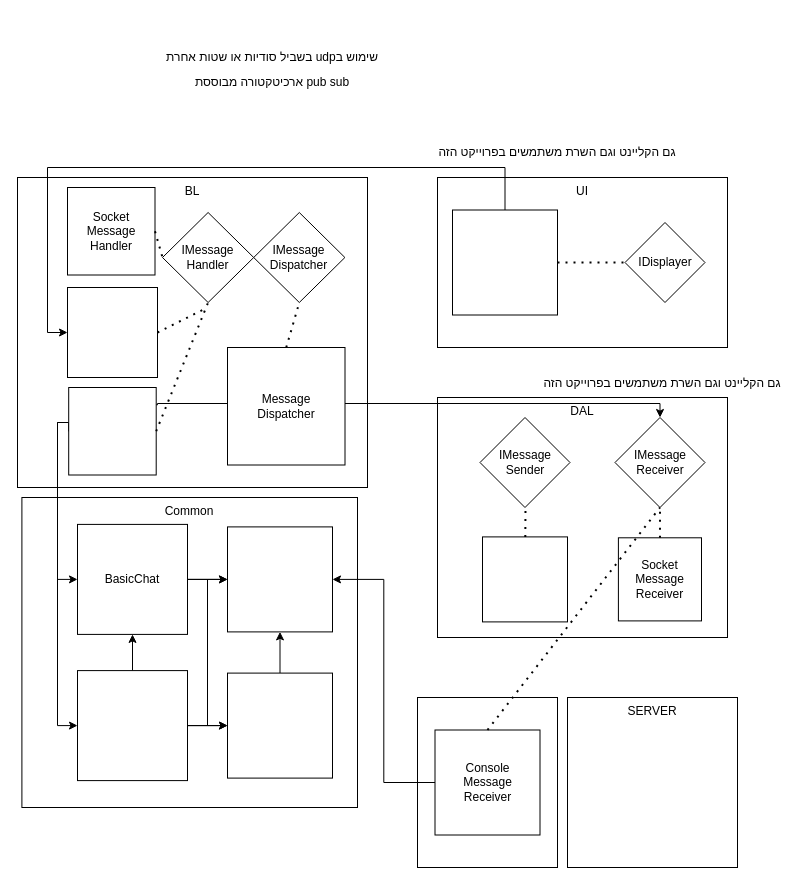
Some shapes in this 800 by 885 pixel diagram are drawn without their labels. Each missing label, with the box of its shape:
BasicMessage: (226, 526, 332, 632)
CLIENT: (416, 696, 558, 868)
Console Message Handler: (66, 286, 158, 378)
ConsoleDisplayer: (452, 209, 558, 315)
OneTimeMessage: (226, 672, 332, 778)
Socket Message Sender: (482, 536, 568, 622)
Storage Message Handler: (68, 386, 156, 475)
Temporary Messages Chat: (76, 670, 188, 781)
